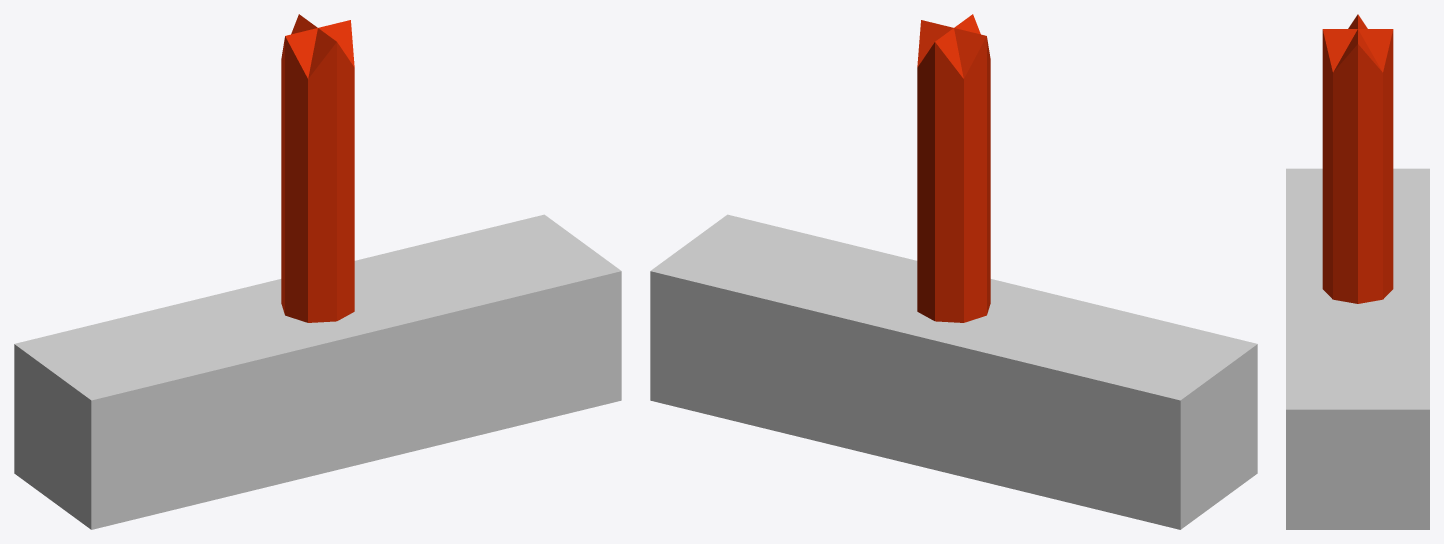
File: cytosineR.glb
3 renders of one model, left to right at view 1: azimuth 30°, elevation 25°; view 2: azimuth 150°, elevation 25°; view 3: azimuth 270°, elevation 25°, orthographic. The views are drawn at different scales.
Parts seen in each view (by area): view 1: backbone, cytosine; view 2: backbone, cytosine; view 3: backbone, cytosine.
Boxes of the visible parts, left/top/right/bottom form: backbone: left=14, top=214, right=621, bottom=529; cytosine: left=281, top=14, right=354, bottom=322; backbone: left=650, top=214, right=1257, bottom=529; cytosine: left=917, top=14, right=990, bottom=322; backbone: left=1286, top=168, right=1429, bottom=529; cytosine: left=1322, top=14, right=1393, bottom=303.
Bounding box in the file's own units: 1.34 × 0.99 × 0.339.
